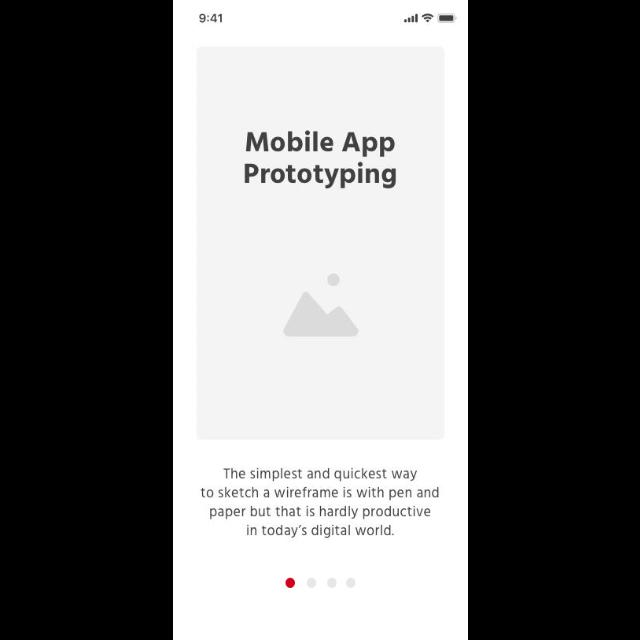image: (197, 47, 445, 441)
pageindicator: (285, 578, 355, 588)
text: (200, 467, 438, 538), (244, 131, 396, 191)
uppertaskbar: (198, 13, 458, 24)
